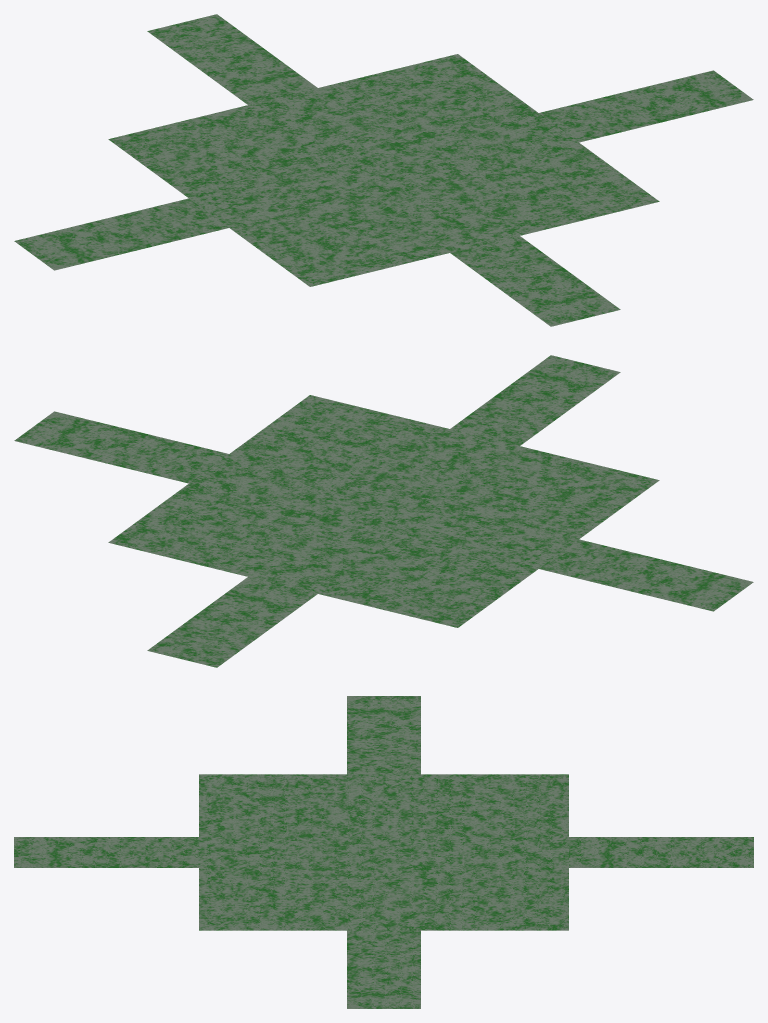
File: 4WayFloor.glb
3 views of the same model, one above another, from view 1: azimuth 30°, elevation 25°; view 2: azimuth 150°, elevation 25°; view 3: azimuth 270°, elevation 25° (orthographic). The views are drawn at different scales.
Visible parts, largest first — view 1: Floor; view 2: Floor; view 3: Floor.
Boxes of the visible parts, box(x1,y1,x2,y2) form: Floor: box(14, 14, 753, 326); Floor: box(14, 355, 753, 667); Floor: box(14, 696, 753, 1008).
Bounding box in the file's own units: 200 × 0 × 200.
1 material, 1 textured.
